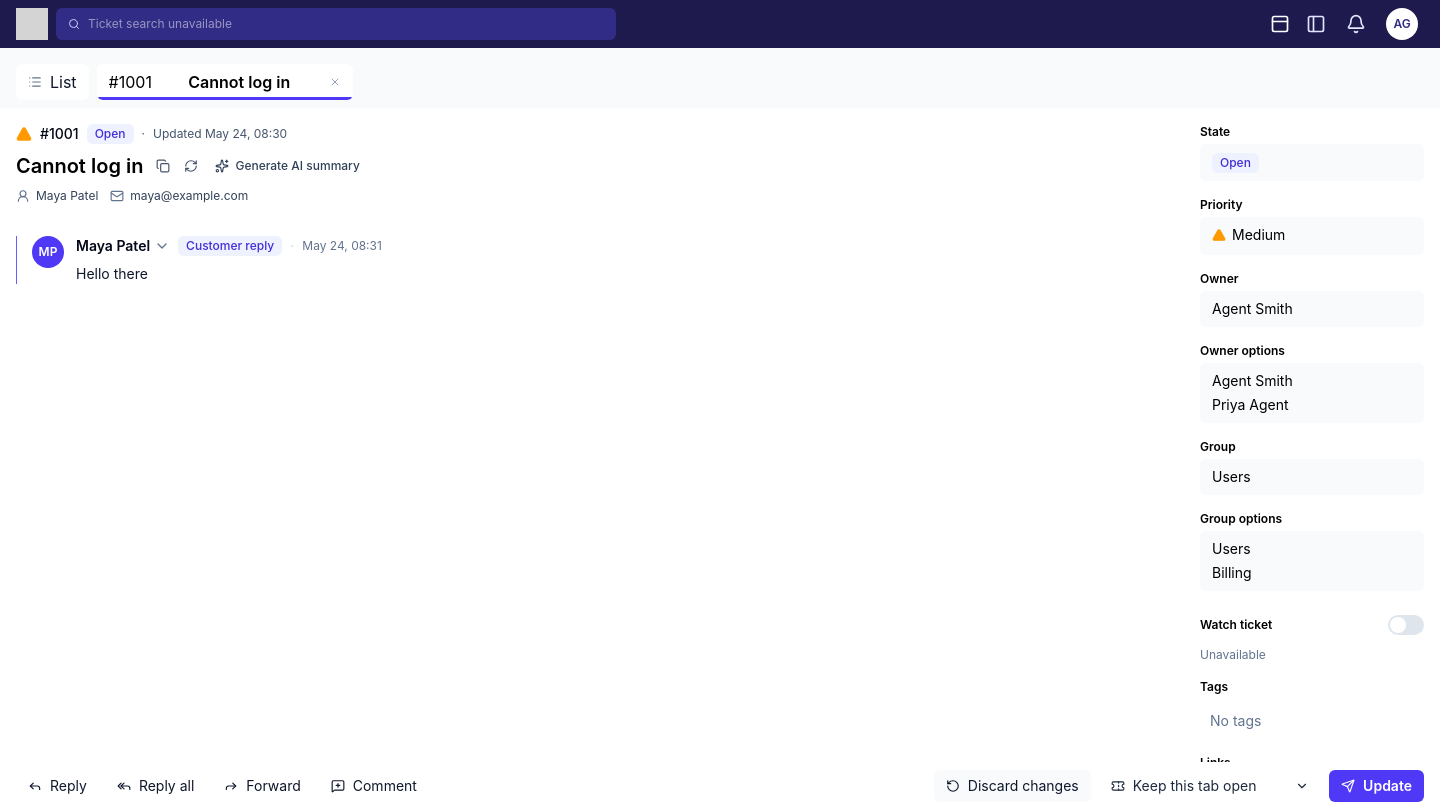
TicketWorkspace › disables list controls only while a ticket pane is active
Check: the checkbox labelled "Select all tickets" is not shown
Check: the element named "Tab layout" is shown, box [1264, 8, 1332, 40]
What coordinates should you click on to do the following:
click the tab with aria-label "Return to list: All tickets"
I would click on:
 (52, 82)
Its box is [16, 64, 89, 100].
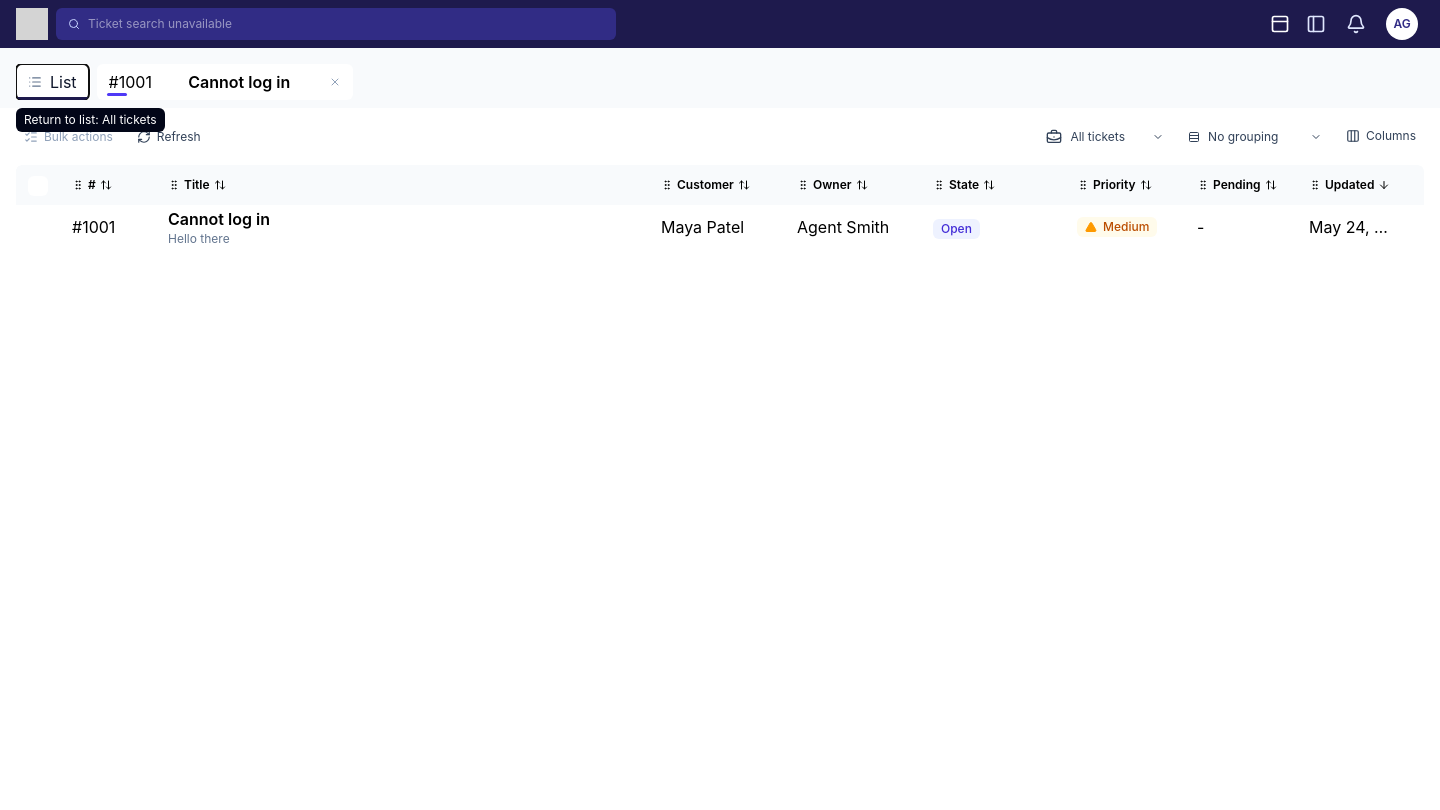
Check: the table named "Tickets" is shown
Check: the element named "Ticket list controls" is shown, box [16, 124, 1424, 148]
Check: the button with aria-label "Refresh list" is enabled, box [129, 124, 209, 148]
